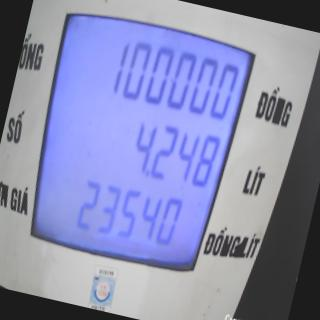screen: (10, 0, 265, 288)
